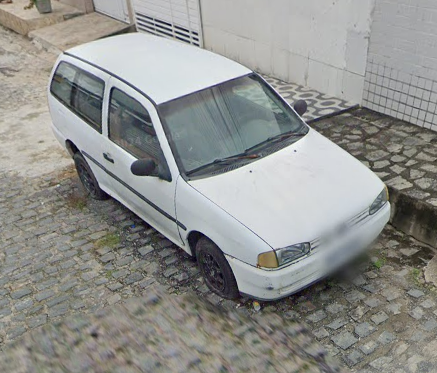car: (44, 28, 392, 302)
